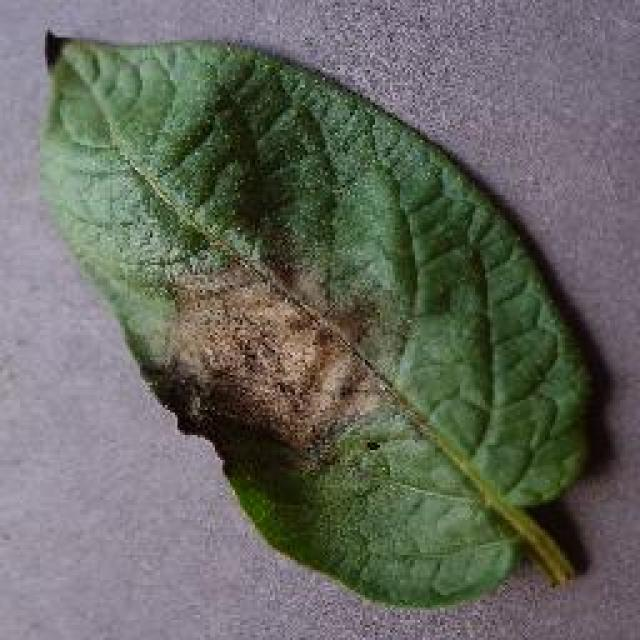late_blight: (32, 25, 602, 613)
